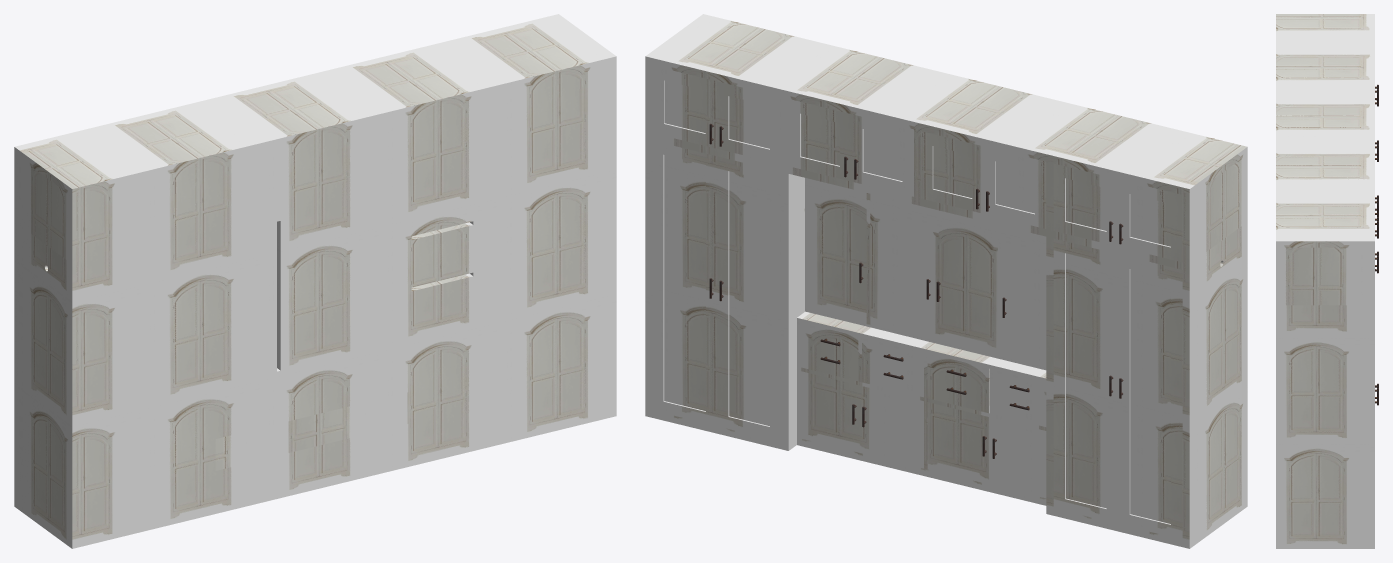
3 views of the same model, side by side, from view 1: azimuth 30°, elevation 25°; view 2: azimuth 150°, elevation 25°; view 3: azimuth 270°, elevation 25° (orthographic). The views are drawn at different scales.
Parts seen in each view (by area): view 1: mesh1_mesh1-geometry; view 2: mesh1_mesh1-geometry, mesh8_mesh8-geometry, mesh6_mesh6-geometry, mesh20_mesh20-geometry, mesh7_mesh7-geometry, mesh10_mesh10-geometry, mesh13_mesh13-geometry, mesh11_mesh11-geometry, mesh12_mesh12-geometry, mesh18_mesh18-geometry, mesh9_mesh9-geometry, mesh19_mesh19-geometry (+5 smaller); view 3: mesh1_mesh1-geometry, mesh58_mesh58-geometry.
Boxes of the visible parts, x1,y1,x2,y2 form: mesh1_mesh1-geometry: (14, 14, 616, 548); mesh1_mesh1-geometry: (645, 14, 1247, 548); mesh8_mesh8-geometry: (1053, 238, 1182, 539); mesh6_mesh6-geometry: (652, 140, 781, 441); mesh20_mesh20-geometry: (870, 194, 997, 358); mesh7_mesh7-geometry: (1053, 163, 1182, 262); mesh10_mesh10-geometry: (652, 66, 781, 164); mesh13_mesh13-geometry: (797, 370, 923, 468); mesh11_mesh11-geometry: (788, 99, 913, 196); mesh12_mesh12-geometry: (921, 131, 1046, 228); mesh18_mesh18-geometry: (805, 178, 866, 326); mesh9_mesh9-geometry: (927, 402, 1046, 498); mesh19_mesh19-geometry: (1001, 225, 1046, 370); mesh1_mesh1-geometry: (1276, 14, 1374, 548); mesh58_mesh58-geometry: (1377, 84, 1378, 405).
Bounding box in the file's own units: 0.8346 × 0.5271 × 0.1598.
